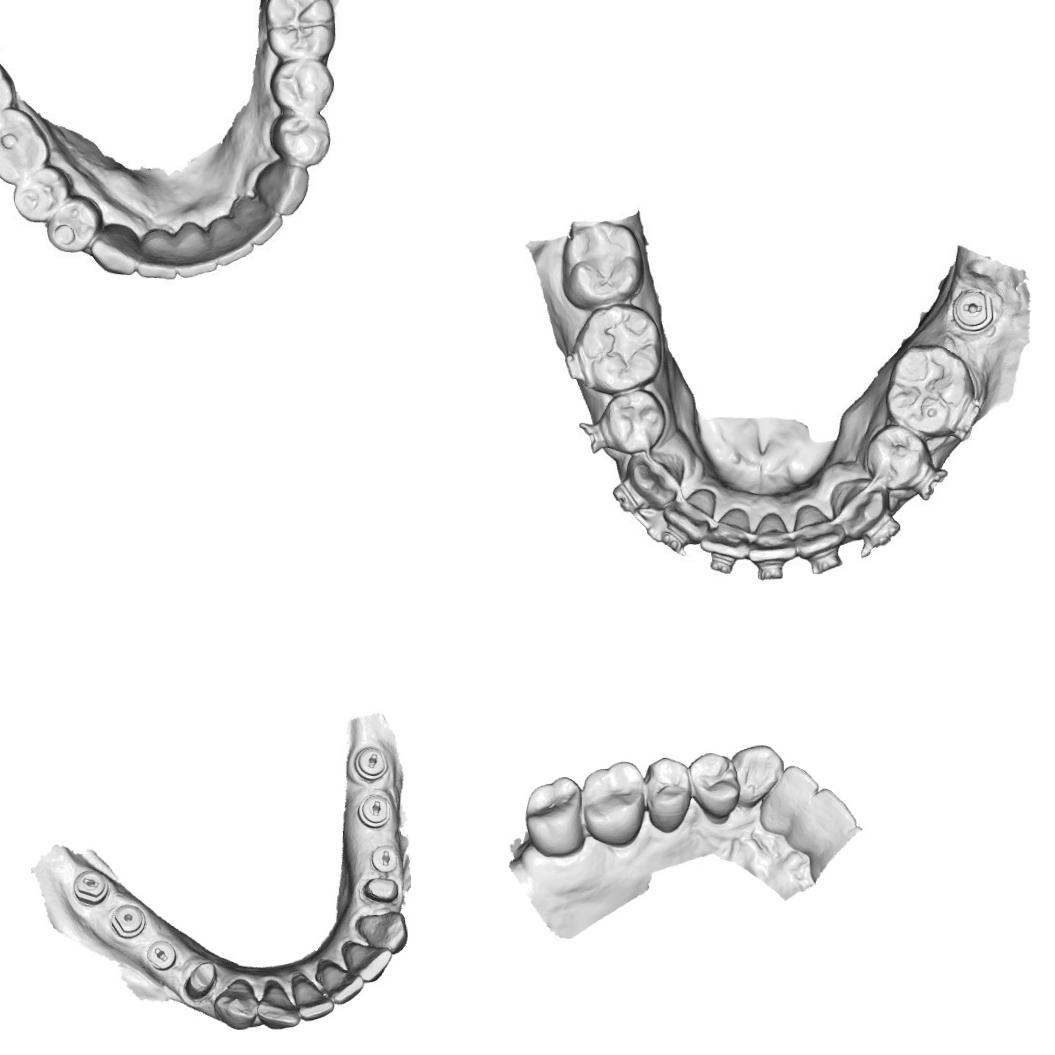canine: (732, 742, 786, 807), (624, 449, 679, 512), (828, 479, 886, 536), (256, 159, 312, 218), (353, 910, 410, 957), (212, 976, 259, 1031), (90, 225, 139, 275)
crown: (182, 958, 218, 1000), (359, 873, 401, 906)
implant: (109, 902, 146, 941)
implant_minus: (947, 282, 1001, 336), (71, 867, 110, 907), (352, 744, 391, 783), (356, 792, 394, 830), (143, 937, 179, 973), (368, 842, 402, 876)
incisor: (787, 785, 859, 851), (760, 762, 822, 827), (699, 501, 755, 560), (794, 507, 847, 561), (662, 487, 718, 538), (137, 225, 184, 280), (254, 976, 301, 1030), (234, 197, 282, 247), (751, 514, 796, 566), (175, 222, 218, 276), (211, 217, 255, 267), (318, 961, 366, 1006), (344, 940, 393, 984), (290, 977, 335, 1024)
molar: (886, 340, 972, 438), (554, 219, 643, 308), (574, 304, 663, 390), (580, 758, 647, 850), (522, 774, 586, 860), (265, 0, 333, 61), (0, 110, 44, 186), (0, 54, 13, 128)
premolar: (860, 424, 929, 488), (642, 754, 694, 834), (604, 386, 664, 452), (687, 750, 742, 820), (271, 58, 334, 116), (46, 196, 100, 253), (276, 110, 332, 164), (13, 165, 70, 218)
